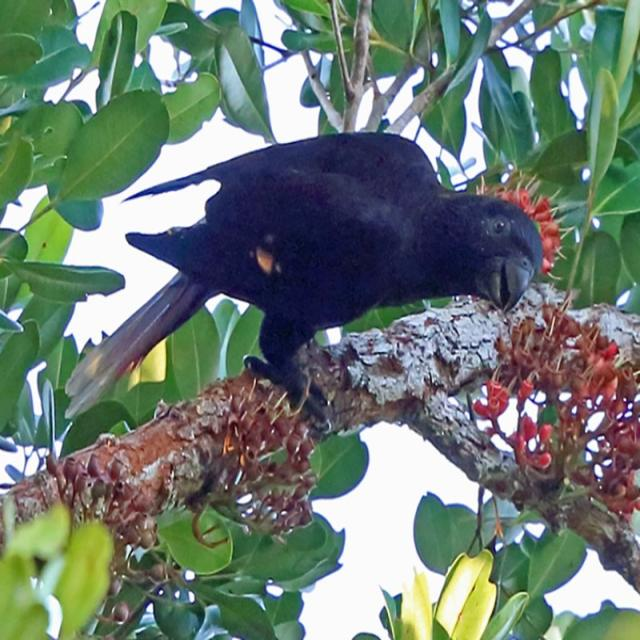Nuri Hitam: (26, 108, 555, 443)
